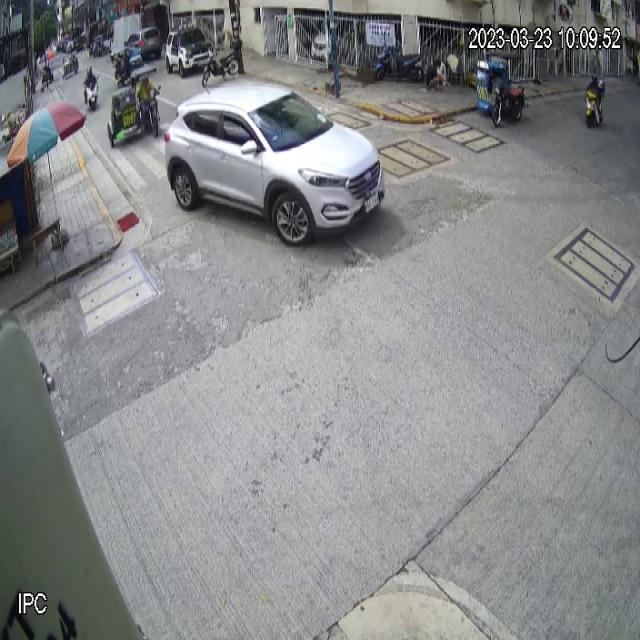Car: (162, 81, 385, 246)
Tricycle: (107, 64, 162, 150), (476, 49, 526, 127)
